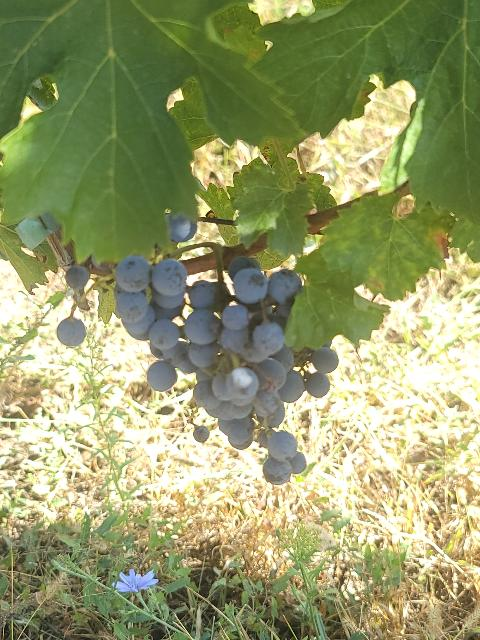grapes: (114, 255, 339, 485)
